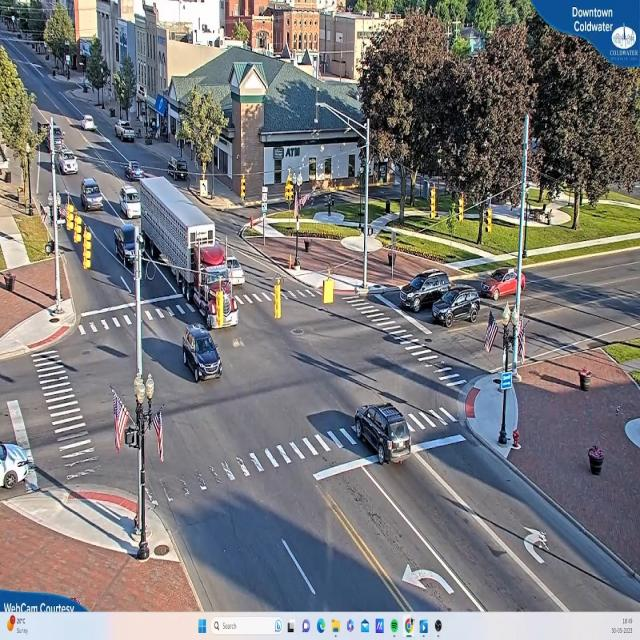car: (354, 406, 413, 465), (181, 327, 225, 386), (400, 272, 455, 314), (432, 288, 480, 327), (482, 270, 528, 304), (112, 220, 142, 266), (80, 178, 104, 212), (117, 121, 137, 145), (58, 156, 77, 175)
truck: (176, 218, 240, 329)
